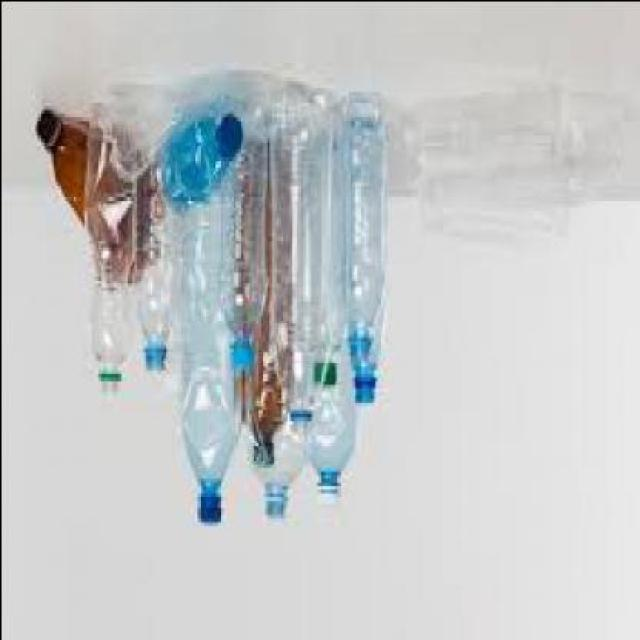PLASTIC: (257, 86, 325, 434), (185, 177, 243, 525), (38, 112, 140, 282), (83, 109, 140, 398), (216, 76, 270, 376), (335, 98, 388, 365), (302, 90, 344, 395), (137, 137, 185, 380), (158, 109, 244, 217), (309, 340, 356, 506), (252, 419, 310, 521), (352, 304, 383, 405), (218, 120, 242, 166), (195, 492, 223, 528), (313, 358, 338, 391), (250, 438, 275, 470), (232, 347, 254, 376), (266, 495, 288, 520), (318, 488, 340, 506)
